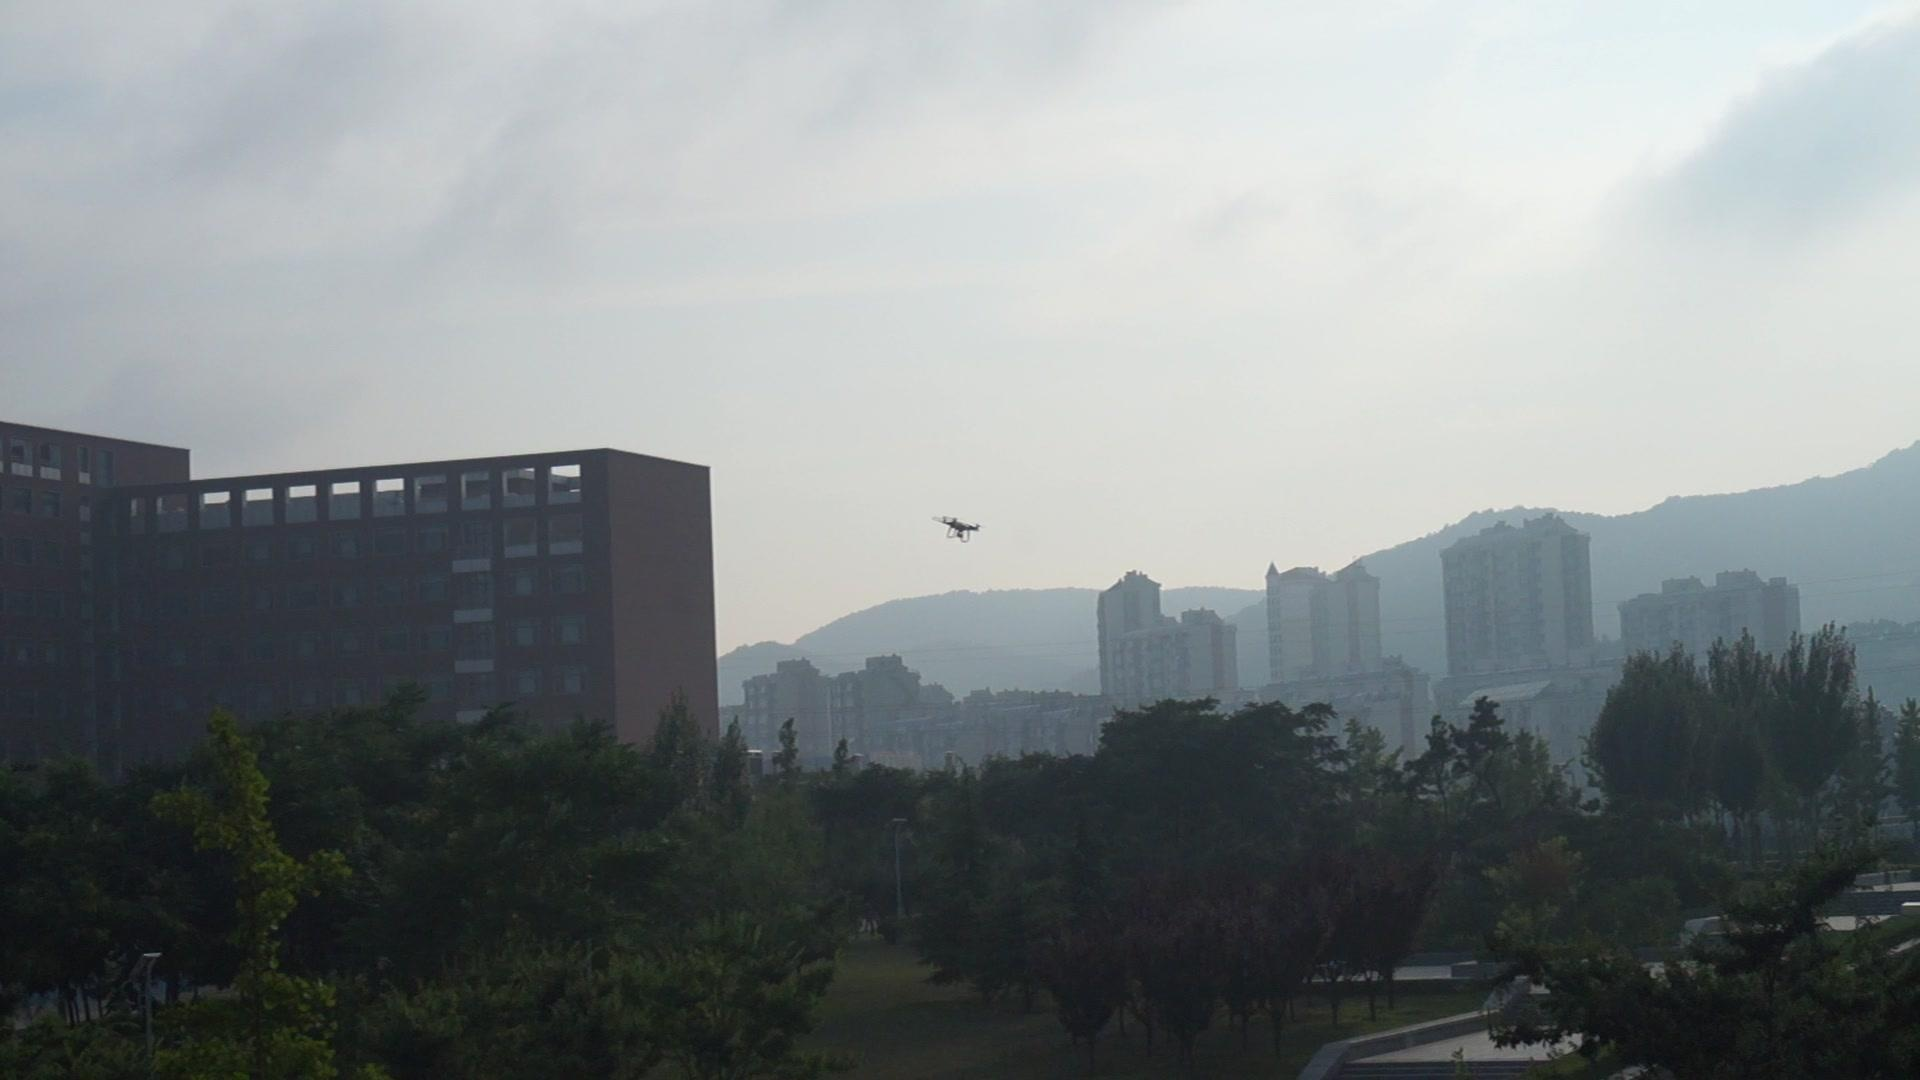UAV: (934, 516, 984, 545)
